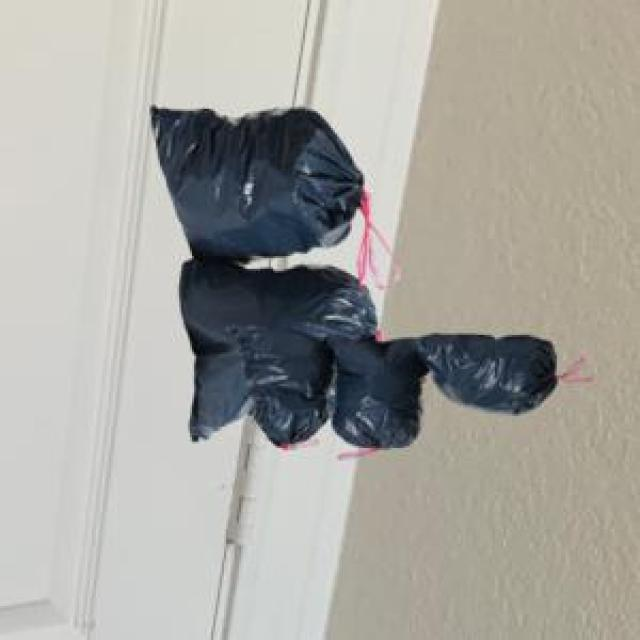waste: (153, 108, 554, 447)
